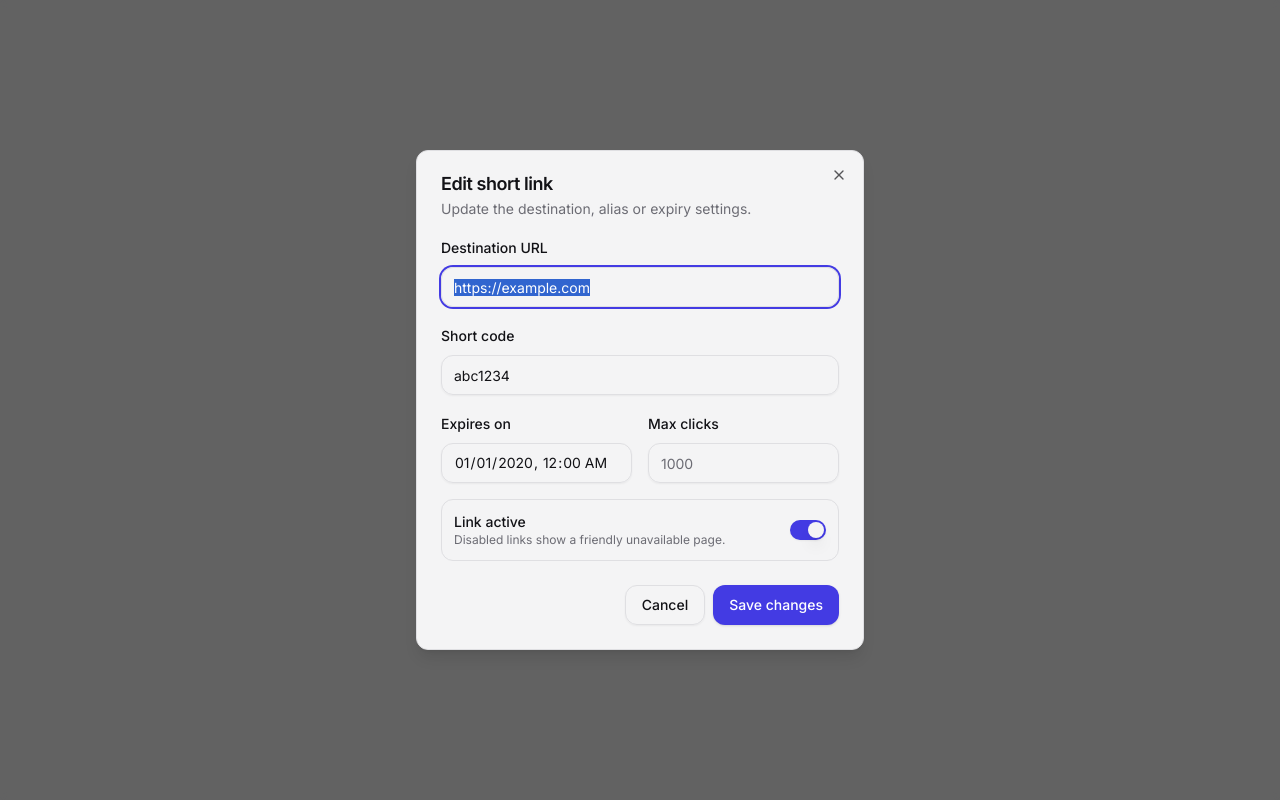
EditUrlDialog expiry validation › rejects a newly entered past expiry
The width and height of the screenshot is (1280, 800).
Replace the text in the field labelled "Expires on" with "2021-06-01T10:00" at (536, 463), box x1=441 y1=443 x2=632 y2=483
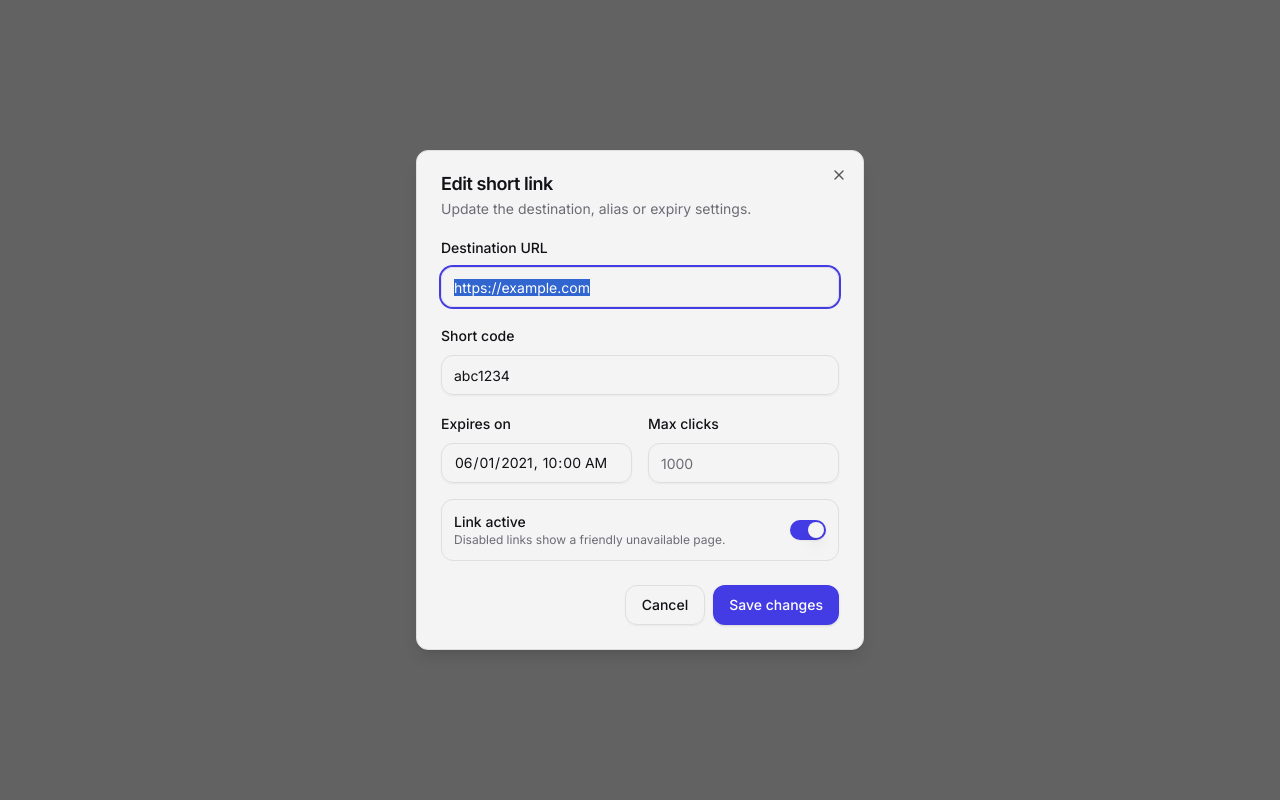
Click the button "Save changes".
click(776, 605)  # box x1=713 y1=585 x2=839 y2=625
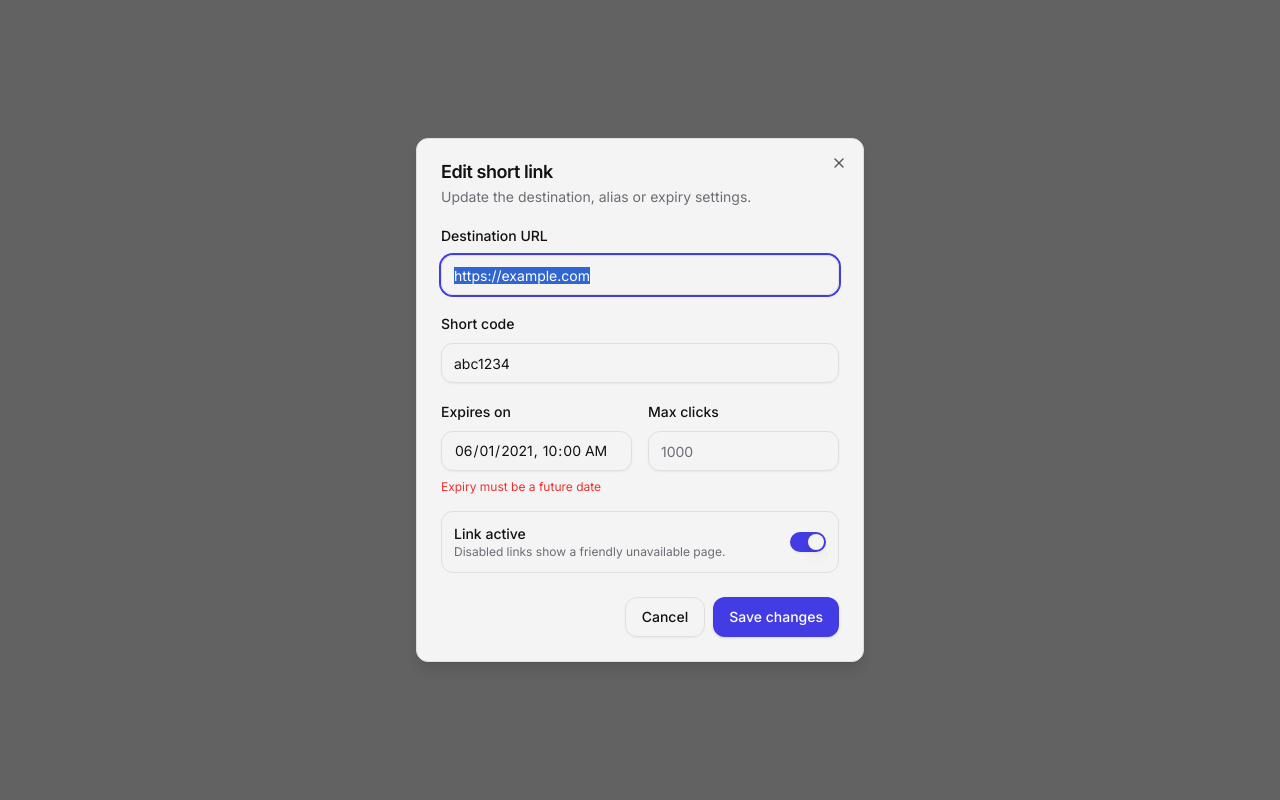
Expected: the text "Expiry must be a future date" is shown, x1=441 y1=479 x2=601 y2=494
